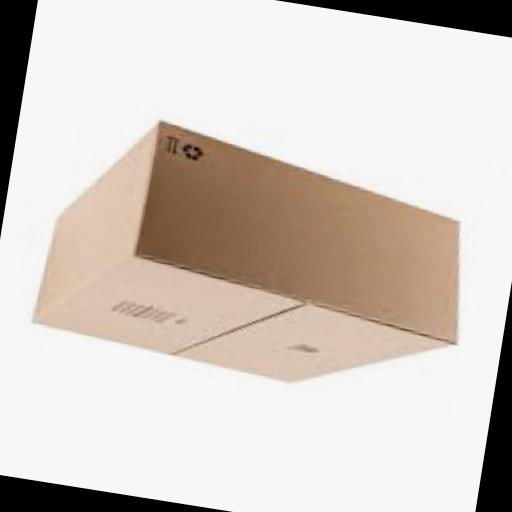cardboard: (32, 108, 486, 411)
